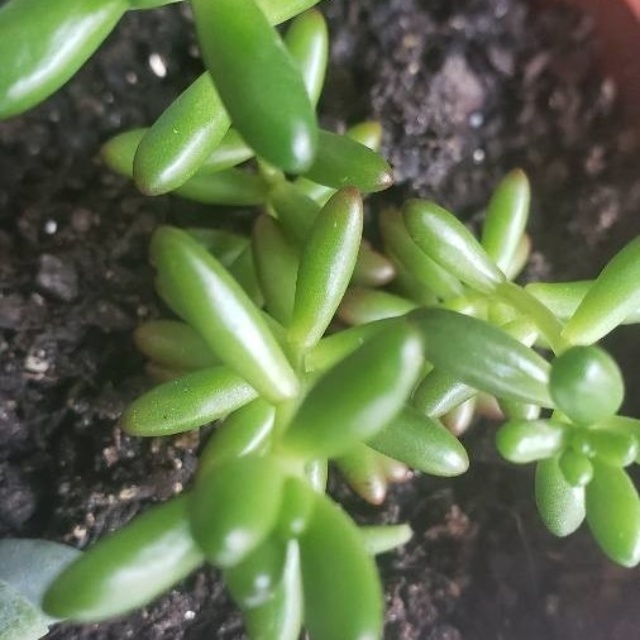obstacle: (142, 28, 606, 583)
